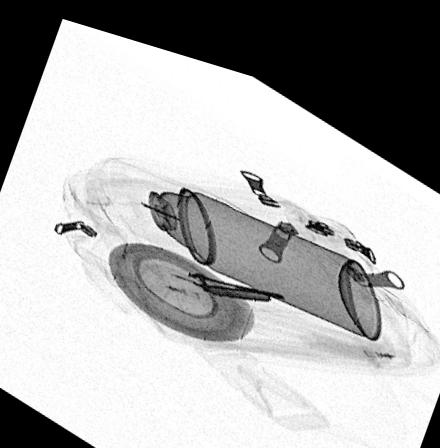Sprayer: (107, 150, 384, 322)
